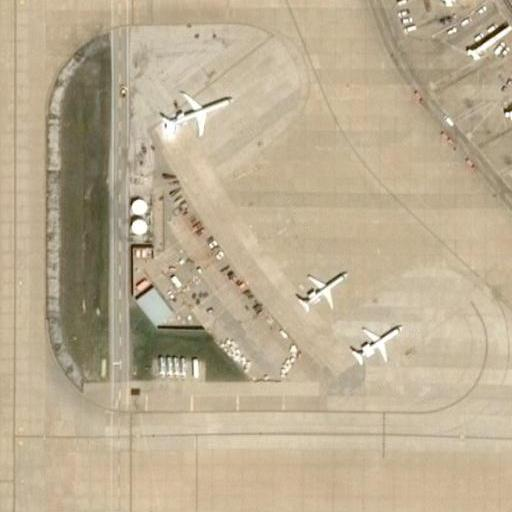Aircraft: (157, 83, 239, 136), (347, 314, 409, 371), (286, 265, 348, 318)
